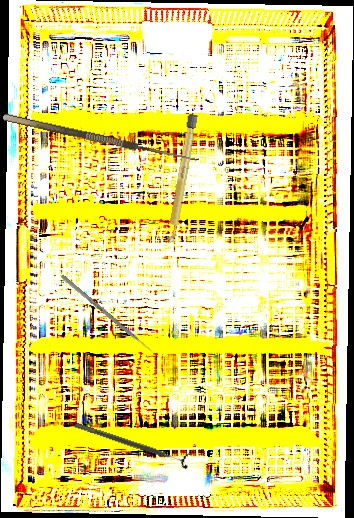Fixation Ring: (72, 415, 193, 471)
Hook Surgical: (2, 102, 202, 166)
Pusher: (60, 274, 159, 358)
Scalpel Handle: (165, 113, 198, 245)
